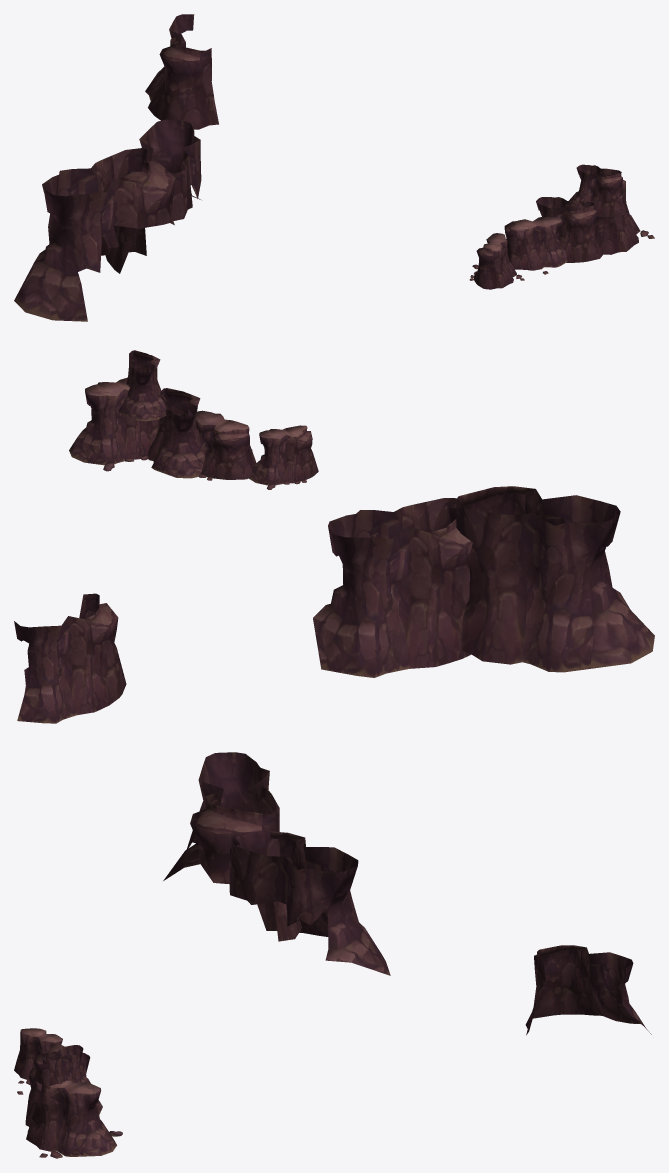
File: area6_shiqiang_03.FBX
3 views of the same model, one above another, from view 1: azimuth 30°, elevation 25°; view 2: azimuth 150°, elevation 25°; view 3: azimuth 270°, elevation 25° (orthographic). The views are drawn at different scales.
Visible parts, largest first — view 1: area6_shiqiang_03; view 2: area6_shiqiang_03; view 3: area6_shiqiang_03.
Boxes of the visible parts, <box> form: area6_shiqiang_03: <box>14,14,654,321</box>; area6_shiqiang_03: <box>14,350,654,723</box>; area6_shiqiang_03: <box>14,752,651,1158</box>.
Bounding box in the file's own units: 9764 × 2013 × 8923.
